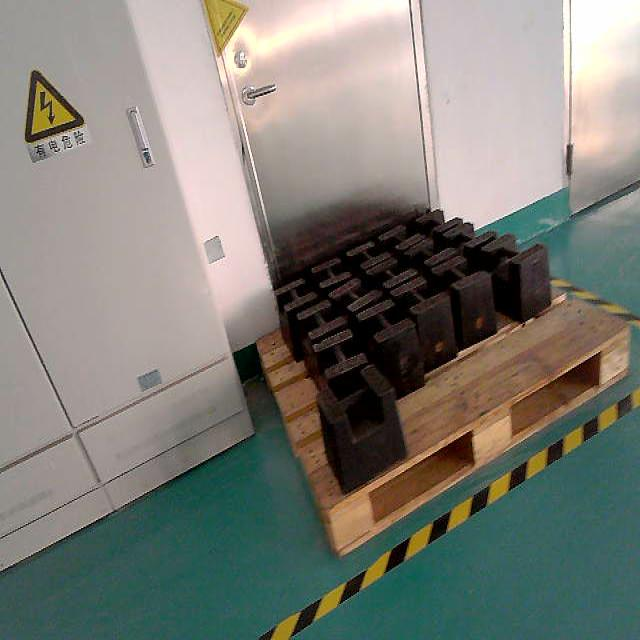euro: (258, 211, 628, 555)
